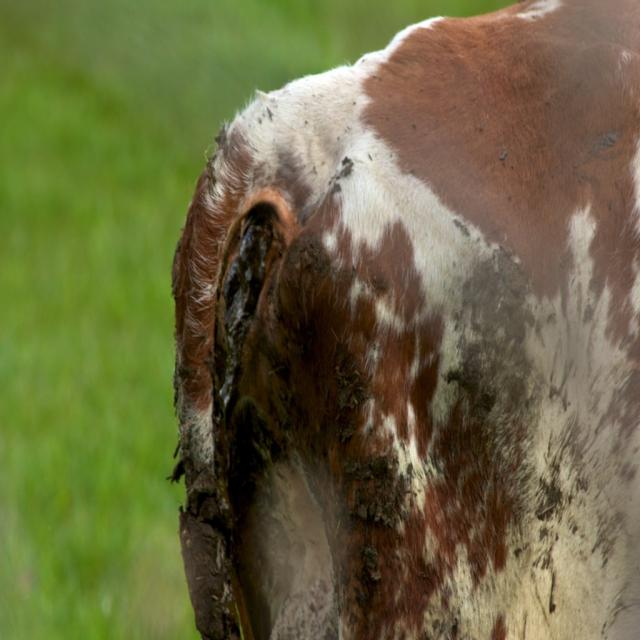Cattle: (174, 2, 590, 640)
